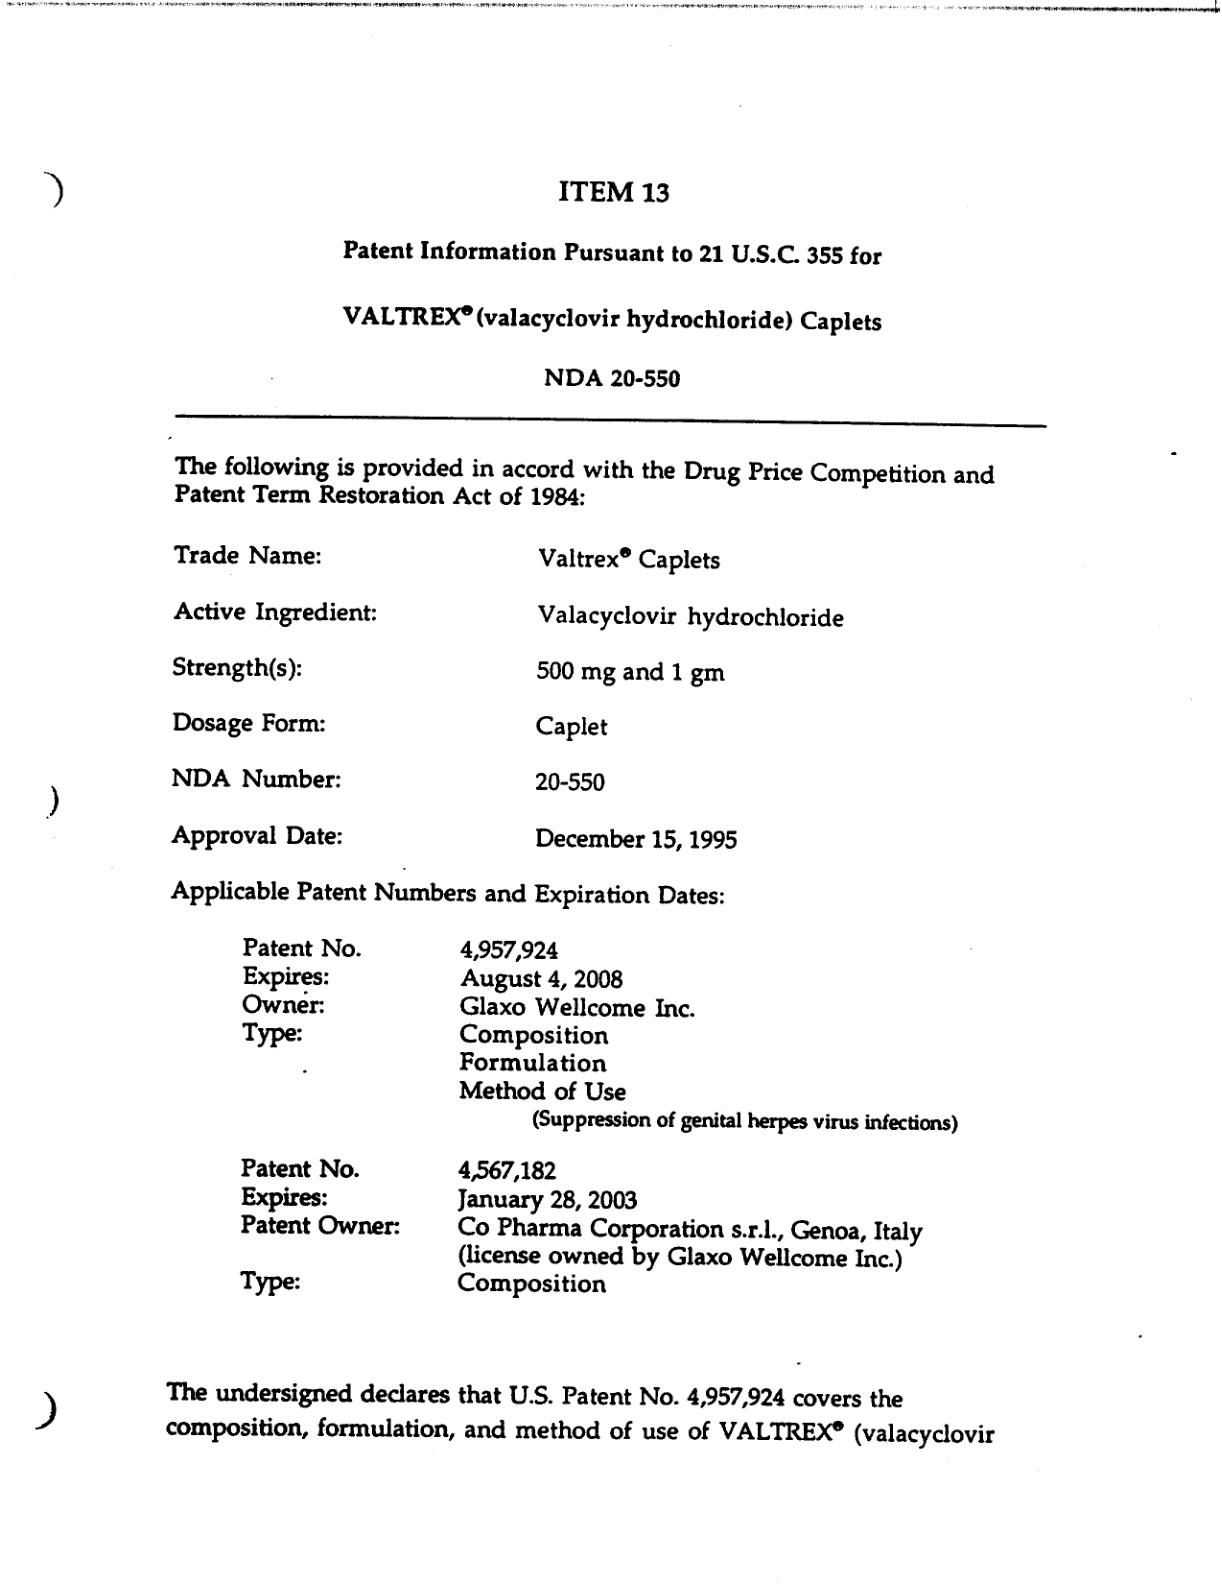nolines: (239, 934, 961, 1299), (171, 542, 848, 854)
